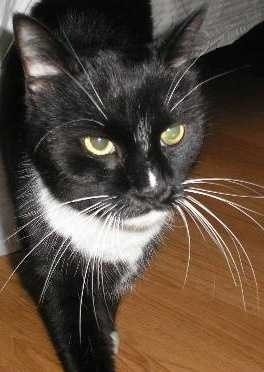Cat: (15, 14, 209, 371)
